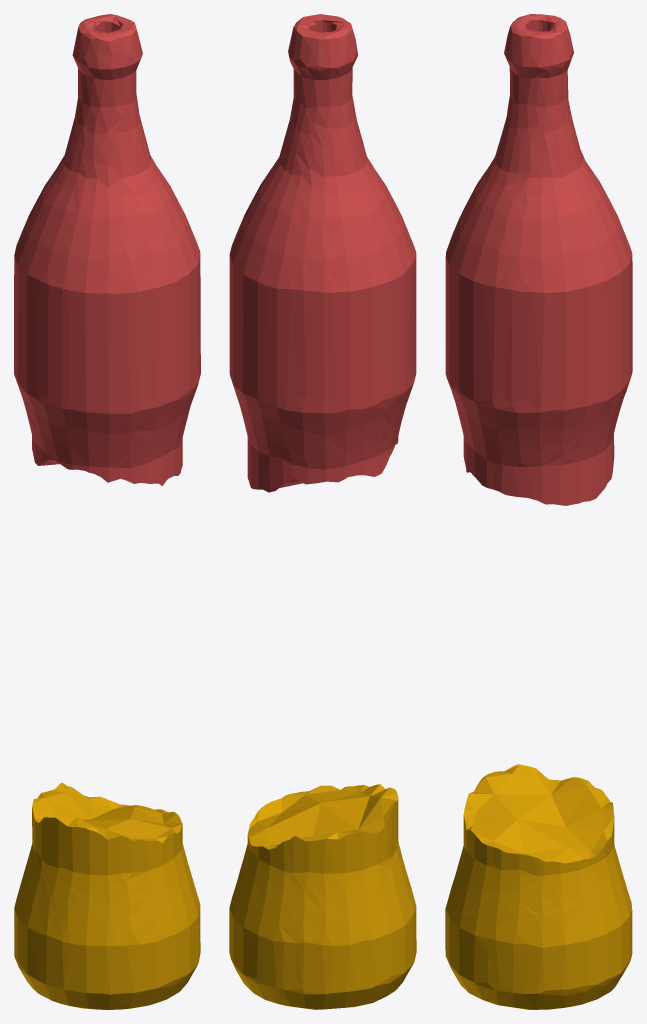
Rendered from mode_1_2pcs_transformed.glb.
3 views of the same model, side by side, from view 1: azimuth 30°, elevation 25°; view 2: azimuth 150°, elevation 25°; view 3: azimuth 270°, elevation 25° (orthographic).
Parts seen in each view (by area): view 1: piece_1.obj, piece_0.obj; view 2: piece_1.obj, piece_0.obj; view 3: piece_1.obj, piece_0.obj.
Part boxes in pixels (left/top/right/bottom): piece_1.obj: left=14, top=14, right=200, bottom=485; piece_0.obj: left=14, top=782, right=200, bottom=1009; piece_1.obj: left=229, top=14, right=416, bottom=492; piece_0.obj: left=229, top=784, right=416, bottom=1009; piece_1.obj: left=445, top=14, right=632, bottom=505; piece_0.obj: left=445, top=764, right=632, bottom=1009.
Size of the model in its own units: 0.2848 by 1.6 by 0.2847.
